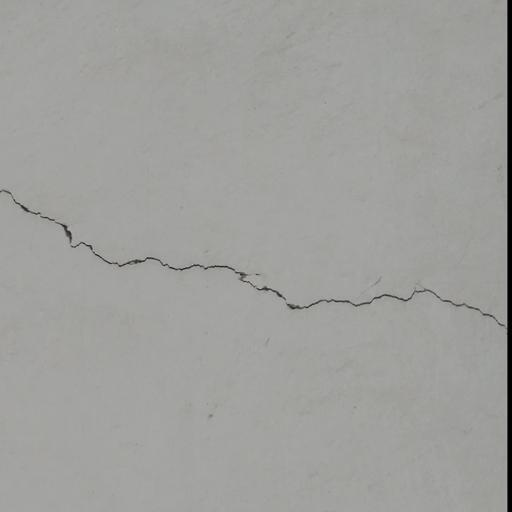major_crack: (0, 160, 506, 355)
